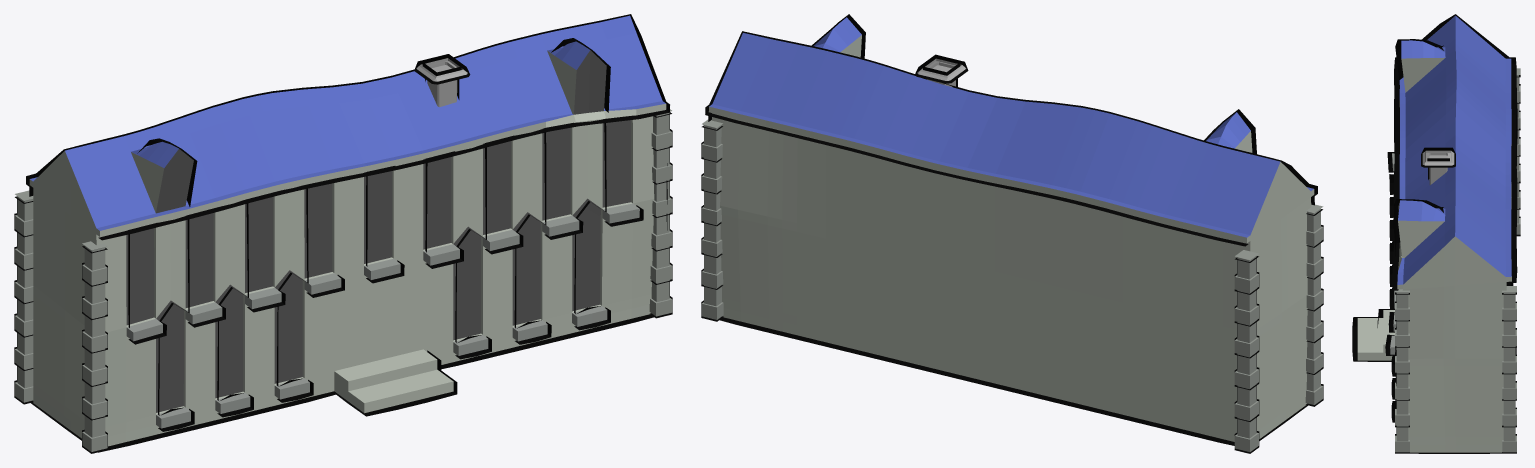
Rendered from longhouse.fbx.
3 views of the same model, side by side, from view 1: azimuth 30°, elevation 25°; view 2: azimuth 150°, elevation 25°; view 3: azimuth 270°, elevation 25° (orthographic). The views are drawn at different scales.
Visible parts, largest first — view 1: Cube, Cube.002, Cube.003, Cube.005, Cube.001; view 2: Cube, Cube.005, Cube.004, Cube.002, Cube.001; view 3: Cube, Cube.004, Cube.003, Cube.001, Cube.005.
Part boxes in pixels (left/top/right/bottom): Cube: left=26, top=14, right=669, bottom=452; Cube.002: left=82, top=241, right=107, bottom=453; Cube.003: left=649, top=109, right=672, bottom=318; Cube.005: left=14, top=190, right=33, bottom=404; Cube.001: left=414, top=54, right=470, bottom=107; Cube: left=705, top=14, right=1317, bottom=445; Cube.005: left=1234, top=250, right=1259, bottom=453; Cube.004: left=701, top=119, right=723, bottom=321; Cube.002: left=1305, top=204, right=1323, bottom=406; Cube.001: left=915, top=54, right=968, bottom=87; Cube: left=1352, top=14, right=1517, bottom=453; Cube.004: left=1502, top=286, right=1516, bottom=453; Cube.003: left=1395, top=289, right=1409, bottom=453; Cube.001: left=1421, top=147, right=1455, bottom=184; Cube.005: left=1511, top=68, right=1520, bottom=236.
Size of the model in its own units: 23574 by 11152 by 7496.
